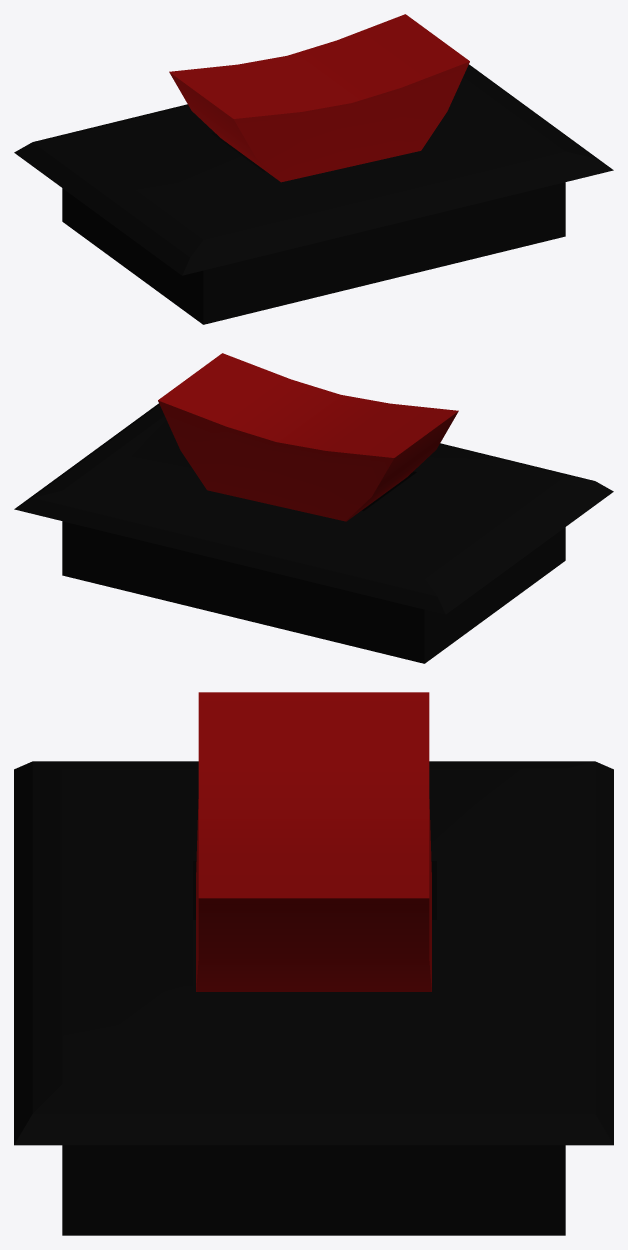
The model's file is Botao.fbx.
3 views of the same model, one above another, from view 1: azimuth 30°, elevation 25°; view 2: azimuth 150°, elevation 25°; view 3: azimuth 270°, elevation 25° (orthographic). The views are drawn at different scales.
Visible parts, largest first — view 1: polySurface1, polySurface2; view 2: polySurface1, polySurface2; view 3: polySurface1, polySurface2.
Boxes of the visible parts, x1,y1,x2,y2 form: polySurface1: (14,64,613,324); polySurface2: (169,14,469,182); polySurface1: (14,403,613,663); polySurface2: (158,353,458,521); polySurface1: (14,761,613,1235); polySurface2: (196,692,431,991).
Size of the model in its own units: 4.87 by 1.74 by 3.29.
